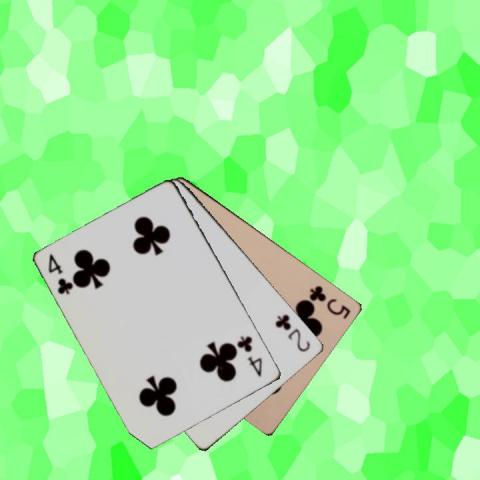2c: (272, 311, 313, 353)
4c: (46, 251, 76, 296), (235, 332, 264, 378)
5c: (307, 282, 353, 321)
